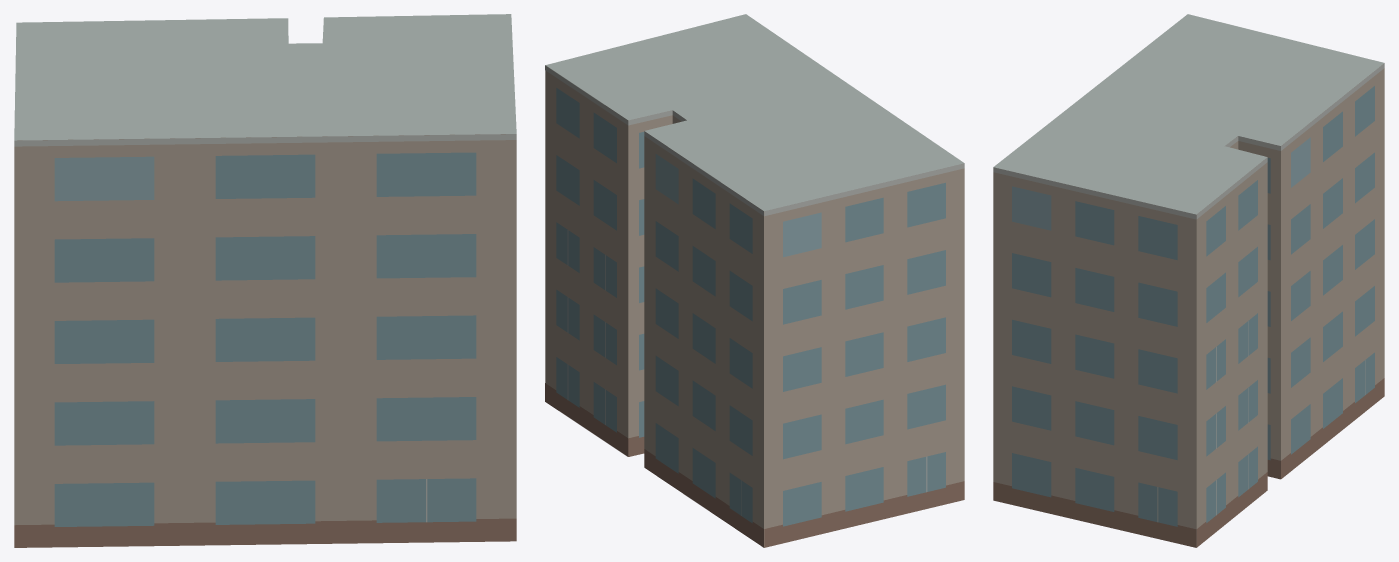
The model's file is survey-upis-32792600.glb.
The picture shows the model from 3 angles, left to right: view 1: azimuth 30°, elevation 25°; view 2: azimuth 150°, elevation 25°; view 3: azimuth 270°, elevation 25°; orthographic projection. The views are drawn at different scales.
Visible parts, largest first — view 1: survey-upis-32792600.tmp; view 2: survey-upis-32792600.tmp; view 3: survey-upis-32792600.tmp.
Part boxes in pixels (x1,y1,x2,y2): survey-upis-32792600.tmp: (14,14,516,547); survey-upis-32792600.tmp: (545,14,964,547); survey-upis-32792600.tmp: (993,14,1384,547).
Bounding box in the file's own units: 21.05 × 16.3 × 17.36.
